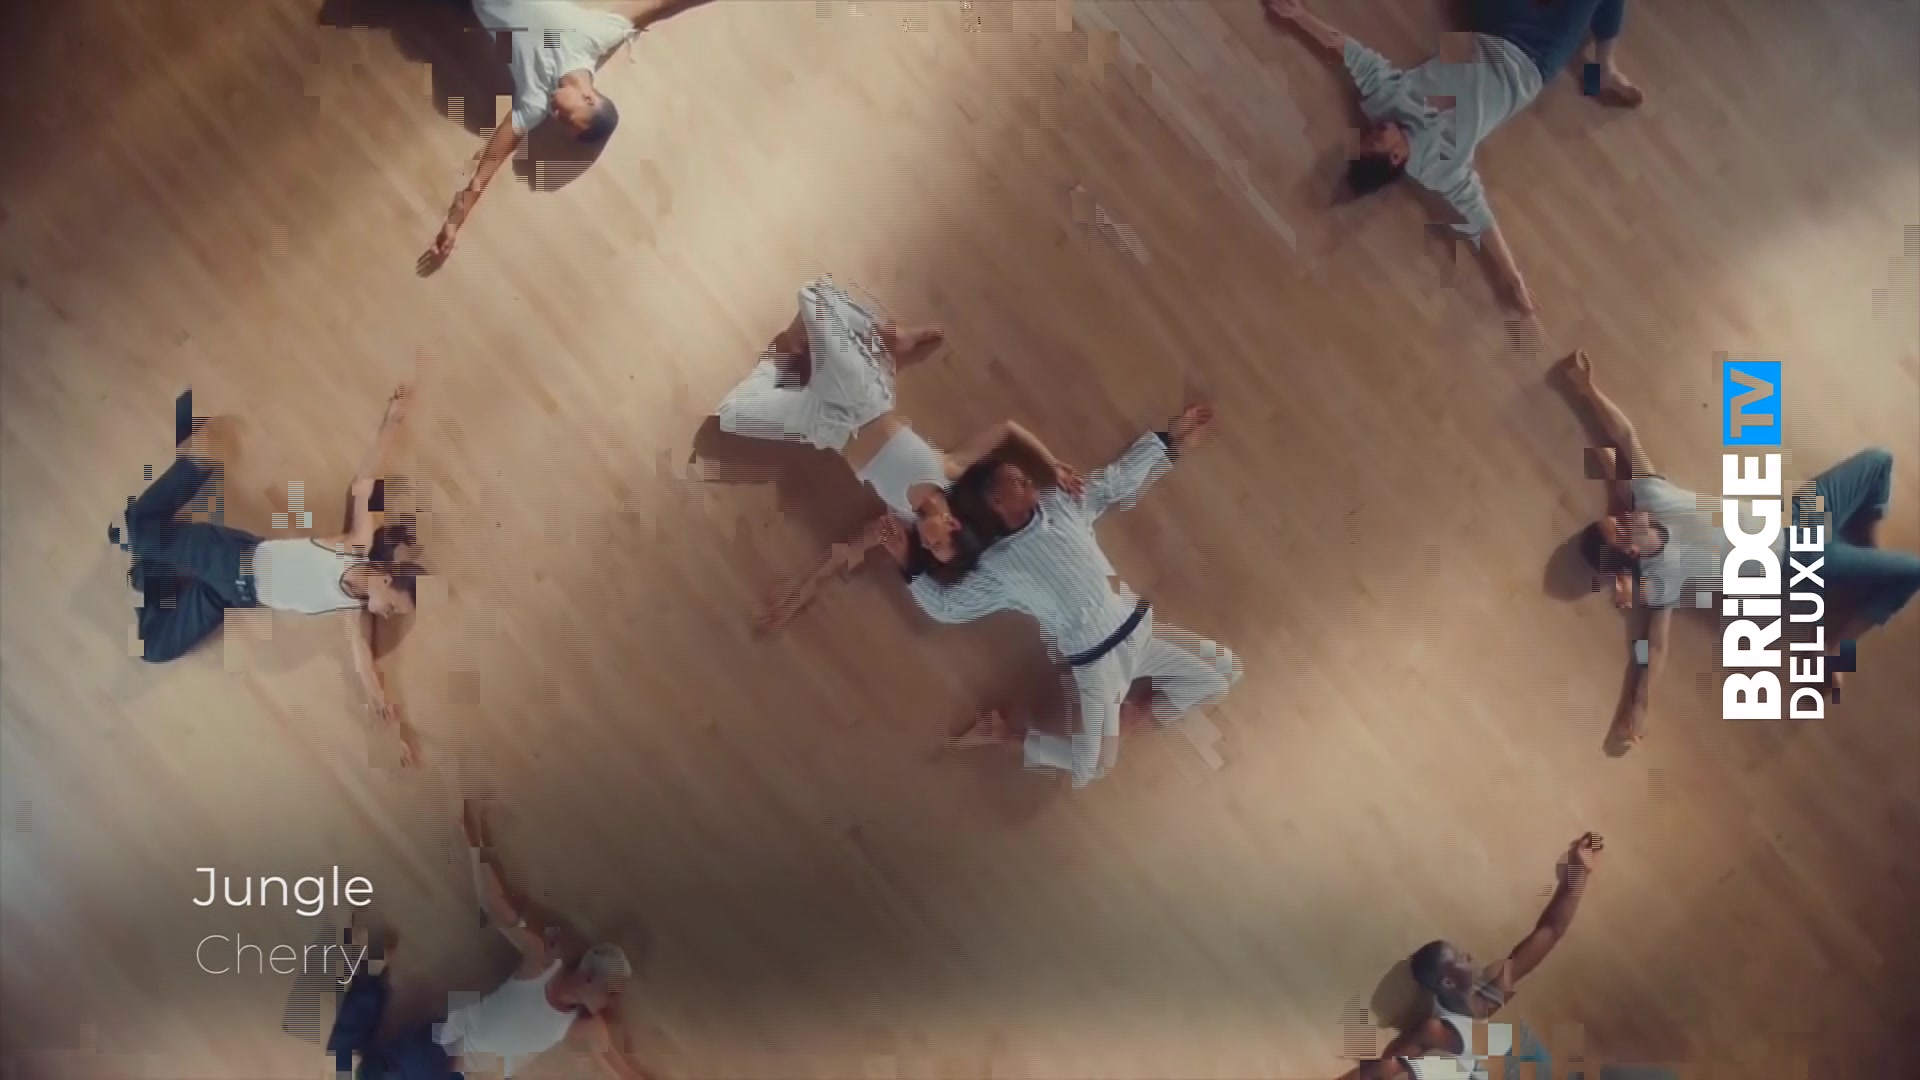Bridge_TV_Deluxe: (1718, 353, 1832, 727)
